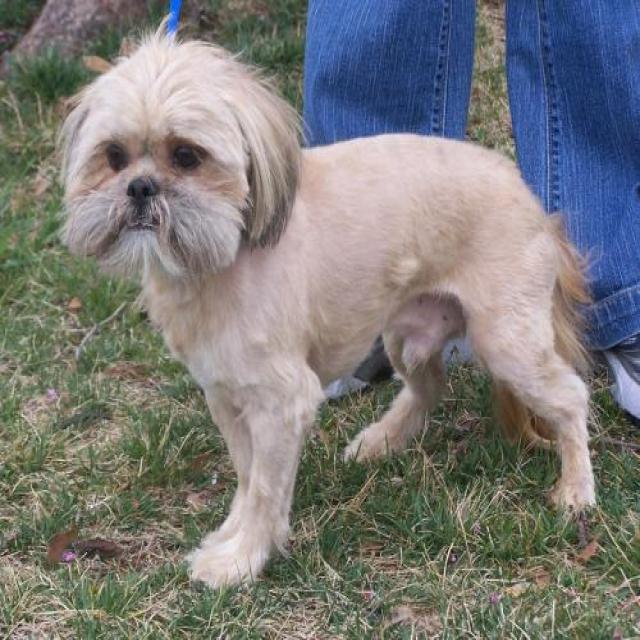Dogs: (54, 12, 600, 590)
